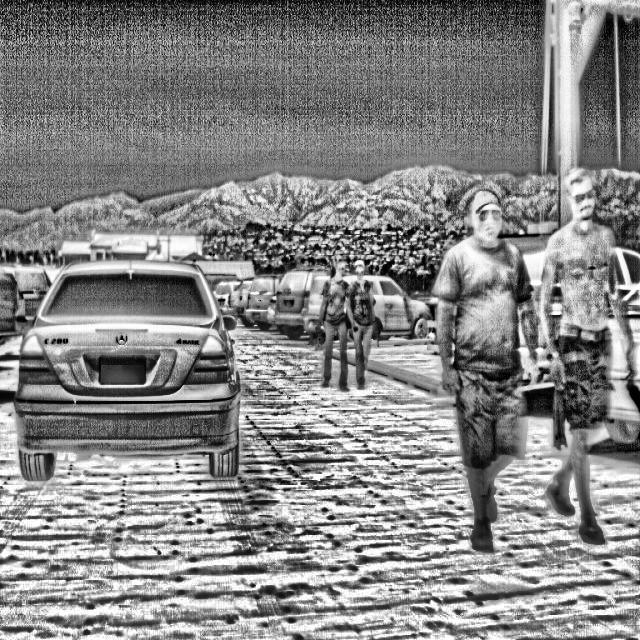car: (30, 262, 246, 504), (15, 258, 84, 330), (214, 269, 278, 334), (255, 262, 306, 324)
person and bycle: (427, 183, 528, 541), (543, 162, 635, 540), (347, 262, 377, 386), (325, 262, 352, 399)
